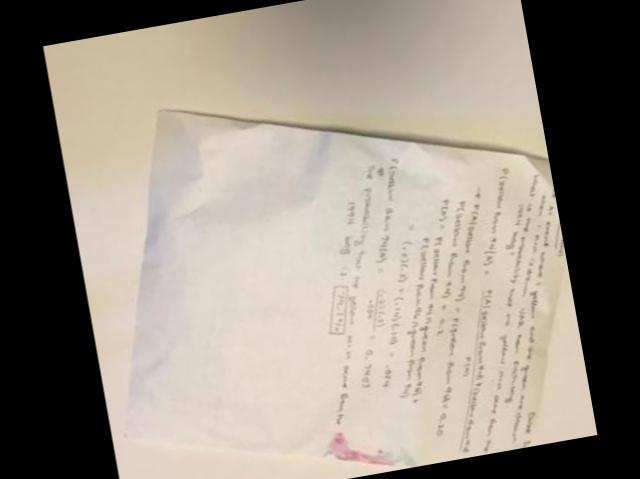cardboard paper: (126, 112, 566, 467)
